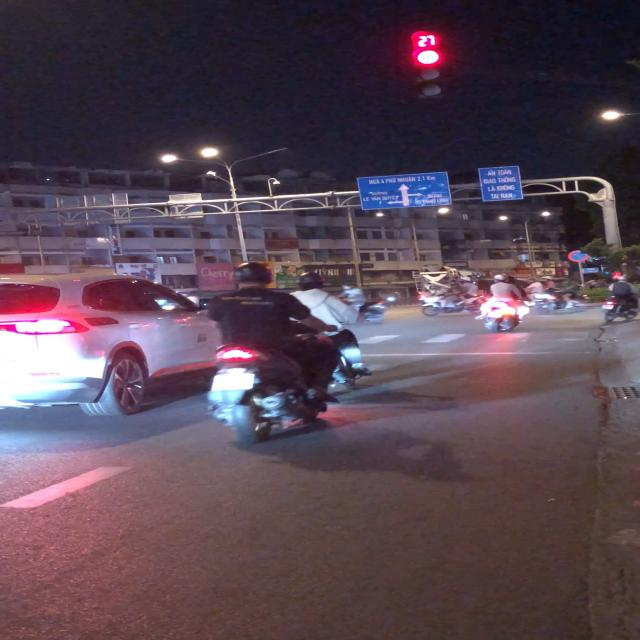Bien bao cam do xe: (567, 250, 591, 263)
